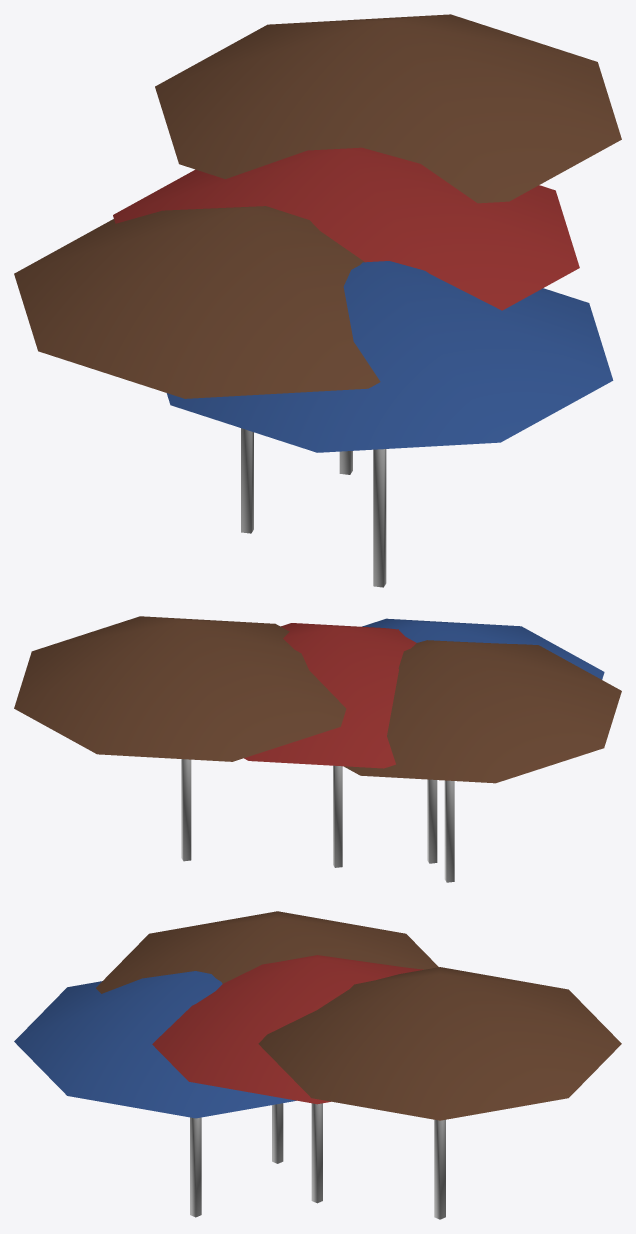
3 renders of one model, top to bottom at view 1: azimuth 30°, elevation 25°; view 2: azimuth 150°, elevation 25°; view 3: azimuth 270°, elevation 25°, orthographic. The views are drawn at different scales.
Visible parts, largest first — view 1: Shapes__3_-5; view 2: Shapes__3_-5; view 3: Shapes__3_-5.
Part boxes in pixels (bbox=[...]): Shapes__3_-5: bbox=[14, 14, 621, 587]; Shapes__3_-5: bbox=[14, 616, 621, 882]; Shapes__3_-5: bbox=[14, 911, 621, 1219].
Size of the model in its own units: 6.06 by 3.5 by 6.35.
